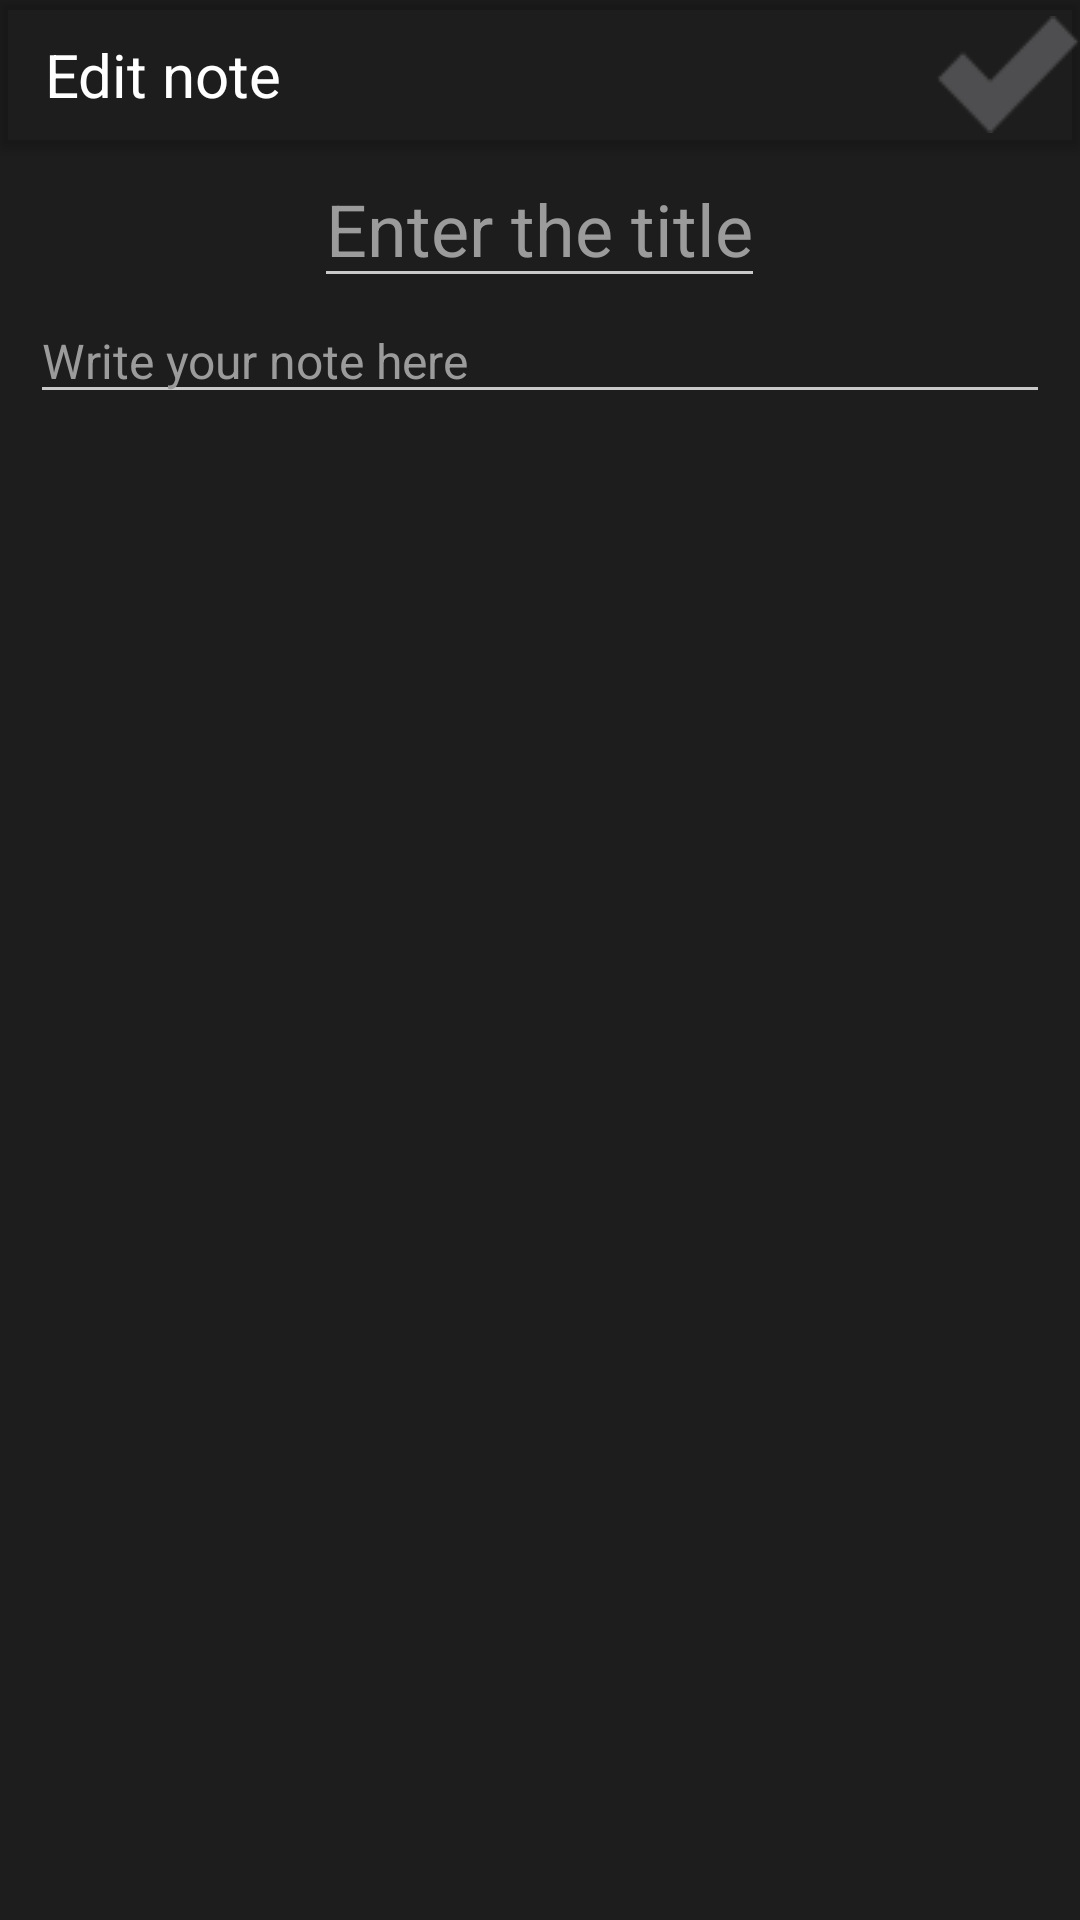

Icon bounding boxes for this 1080x1920 phone screenshot, format rect(x1, y1, x2, y2):
confirm: rect(939, 16, 1077, 133)
